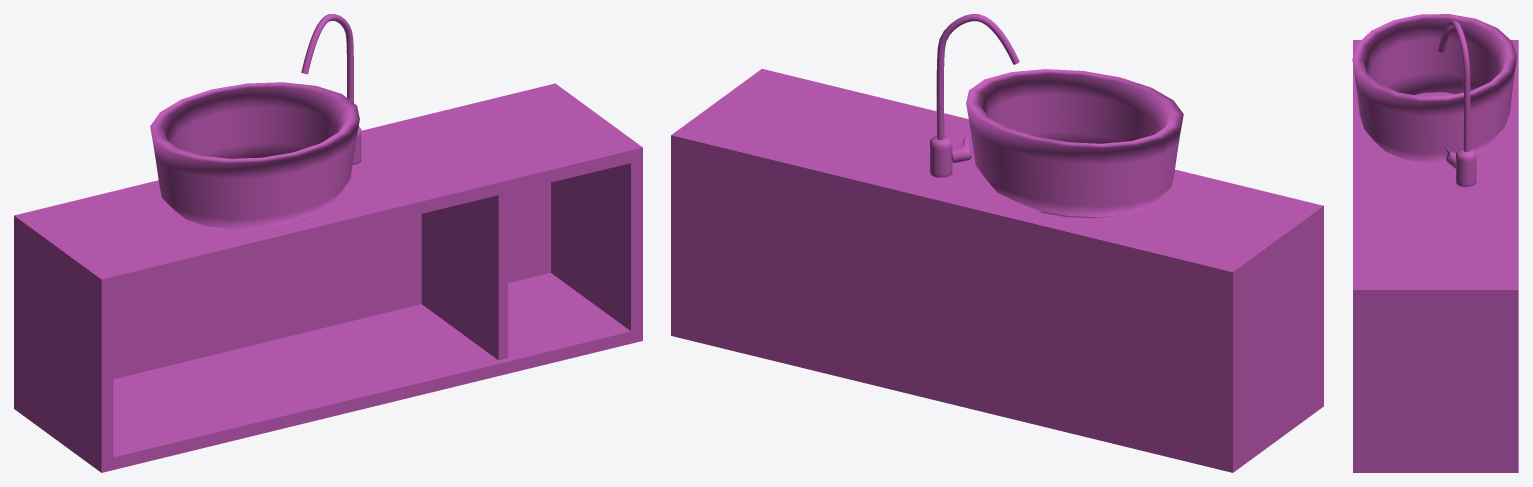
Rendered from evier.FBX.
3 views of the same model, side by side, from view 1: azimuth 30°, elevation 25°; view 2: azimuth 150°, elevation 25°; view 3: azimuth 270°, elevation 25° (orthographic). The views are drawn at different scales.
Visible parts, largest first — view 1: bas; view 2: bas; view 3: bas.
Boxes of the visible parts, bbox=[...] form: bas: bbox=[14, 14, 642, 472]; bas: bbox=[671, 14, 1323, 472]; bas: bbox=[1352, 14, 1518, 472].
Size of the model in its own units: 89.77 by 55.35 by 25.25.
